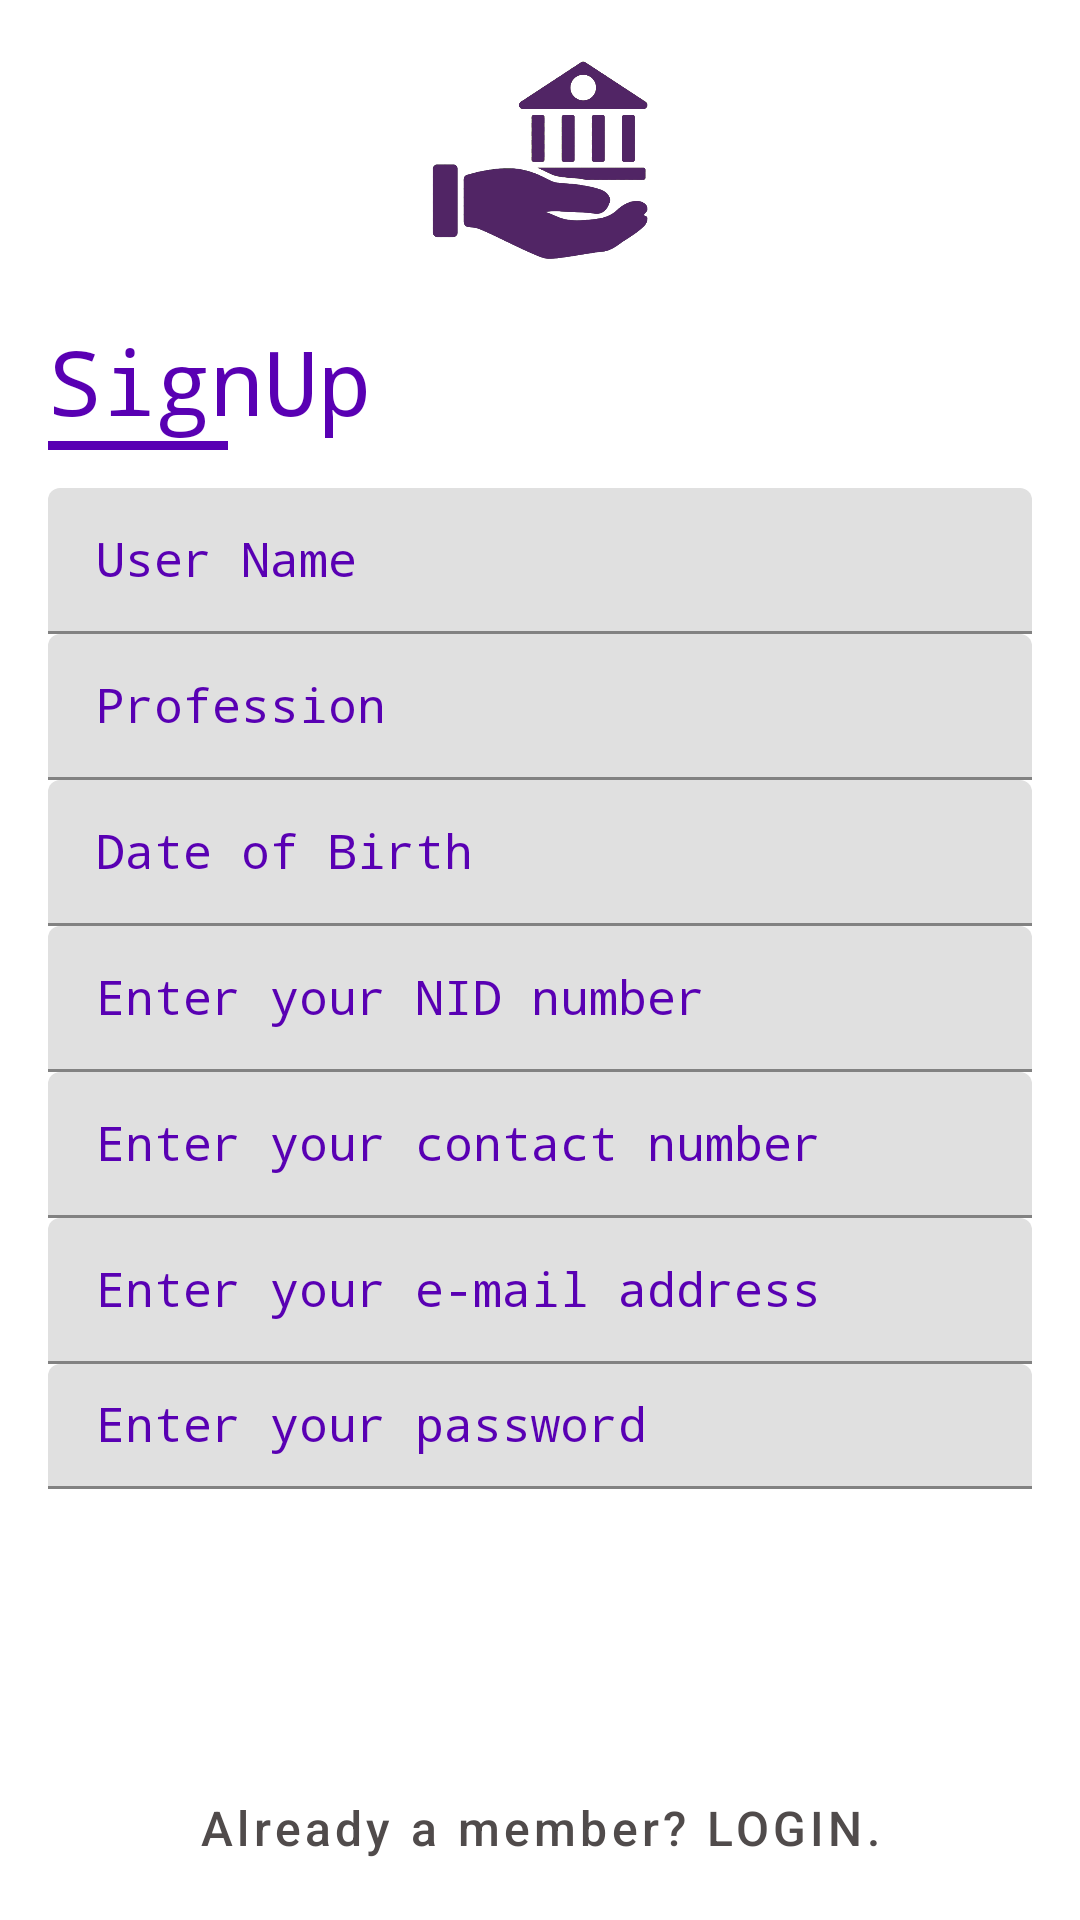

Where icons sit on this 1080*1920 app screen, as (x1, y1, x2, y2):
personalbanking: (433, 61, 648, 259)
